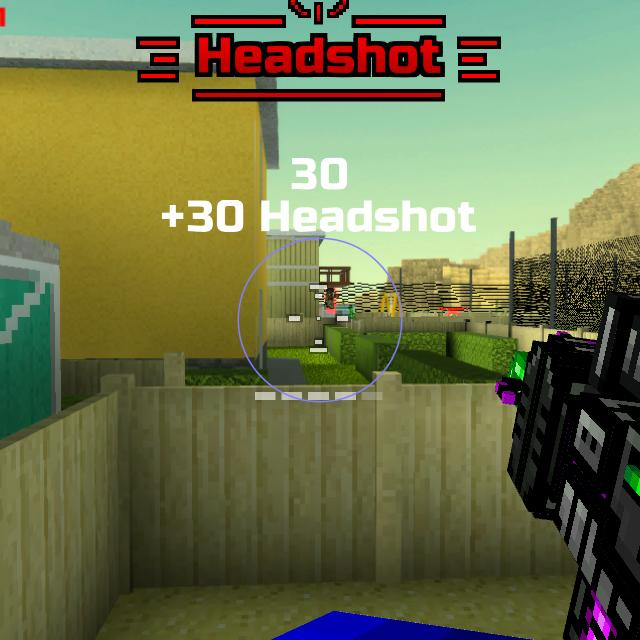Enemy: (324, 288, 339, 310), (448, 312, 458, 316)
